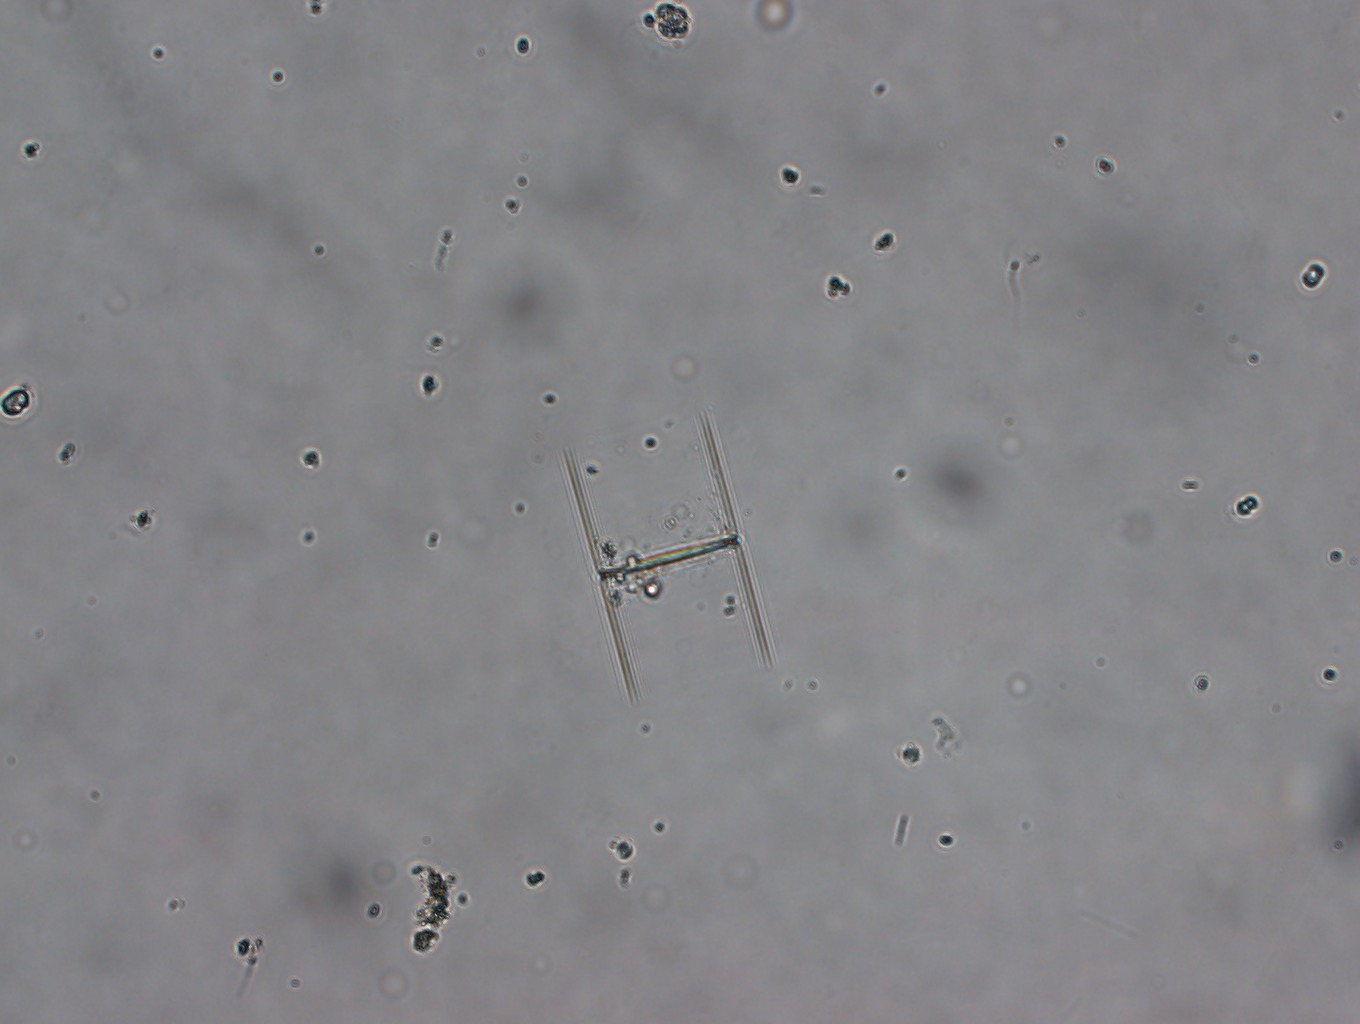guinardia flaccida: (559, 407, 775, 703)
